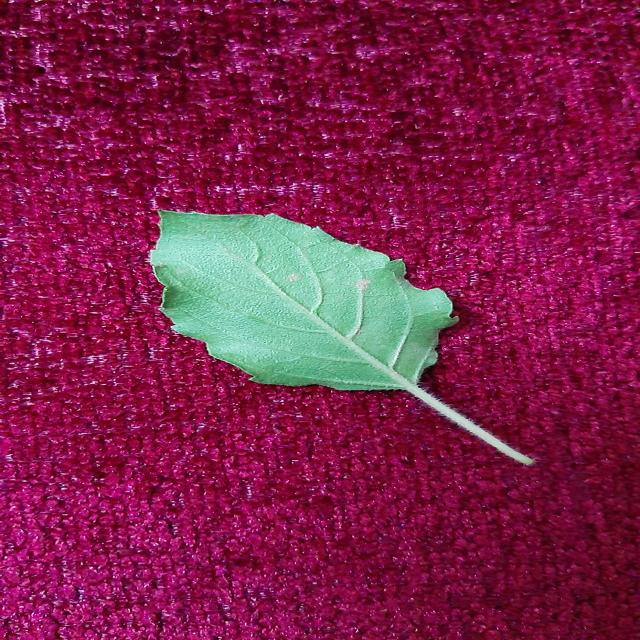defectedtulsi: (149, 211, 453, 335)
tulsi: (149, 211, 477, 434)
